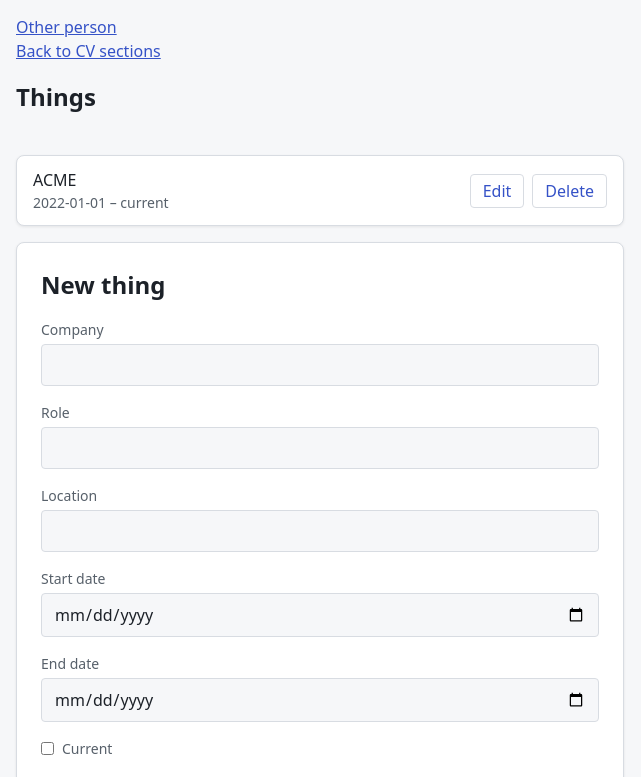
Test: SectionPage › resets the edit form when the route person changes
Click the button with aria-label "Edit ACME" at (497, 190), box x1=470 y1=174 x2=524 y2=208
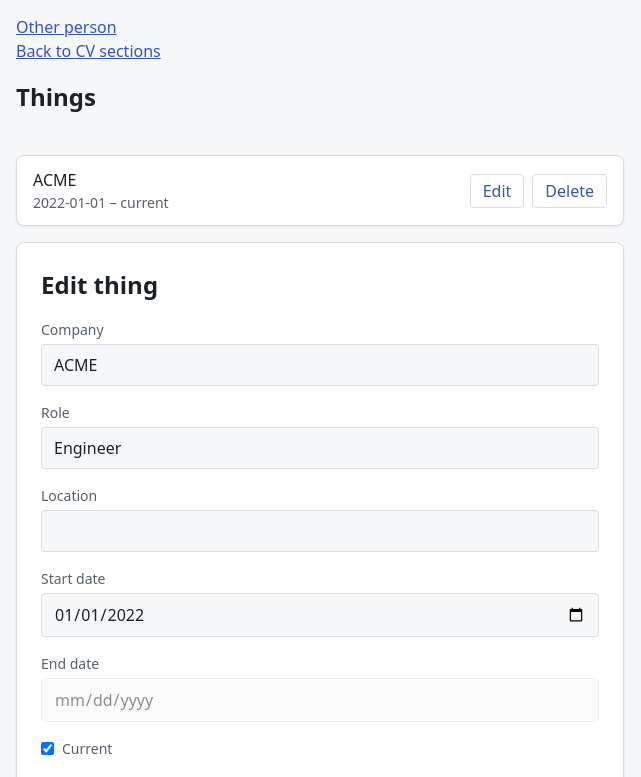
Check: the heading "Edit thing" is shown, box x1=41 y1=268 x2=158 y2=301
Click the link "Other person" at (66, 27), box x1=16 y1=16 x2=117 y2=38
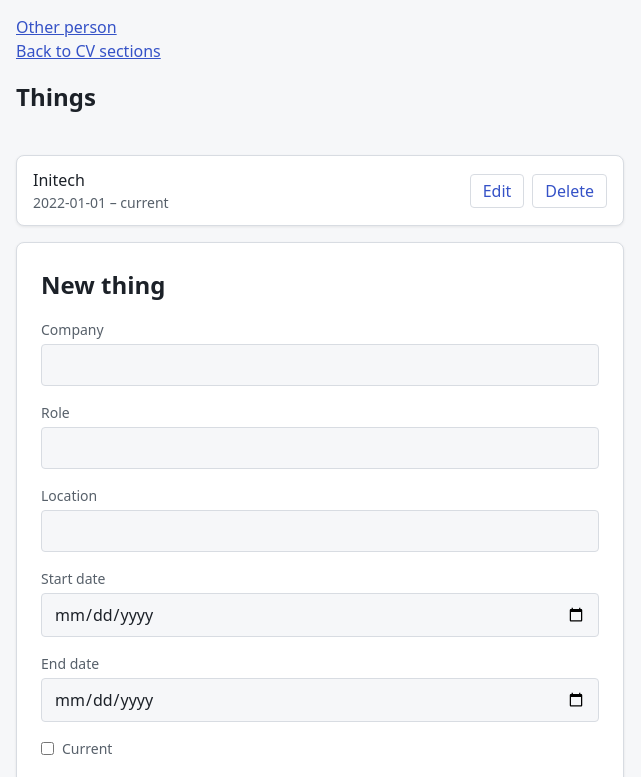
Check: the text "Initech" is shown, box x1=33 y1=169 x2=85 y2=191
Check: the heading "New thing" is shown, box x1=41 y1=268 x2=166 y2=301
Check: the field labelled "Company" is empty, box x1=41 y1=344 x2=599 y2=386
